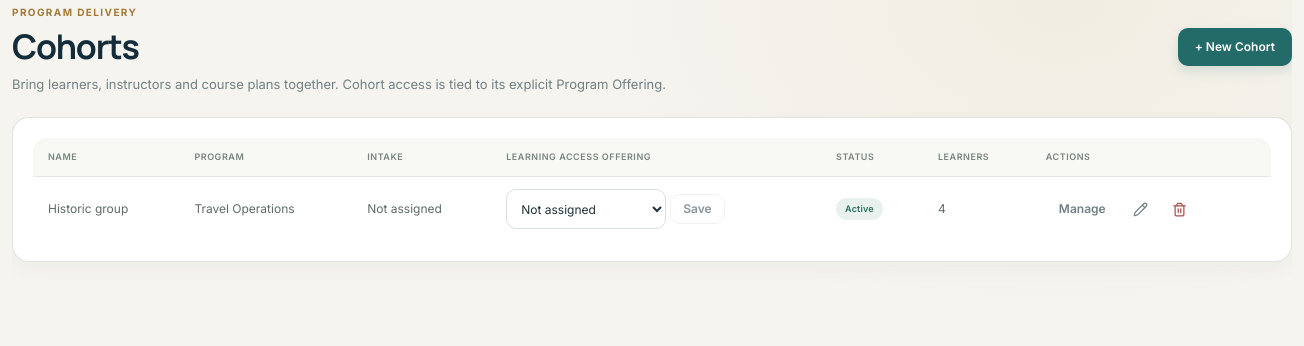
it: CohortsPage offering scoping › lets an administrator explicitly associate an existing teaching group with an offering
The width and height of the screenshot is (1304, 346).
Select "GATE 01 WINTER 2027" in the dropdown named "Learning access offering for Historic group": {"x": 586, "y": 209} [506,189,666,229]
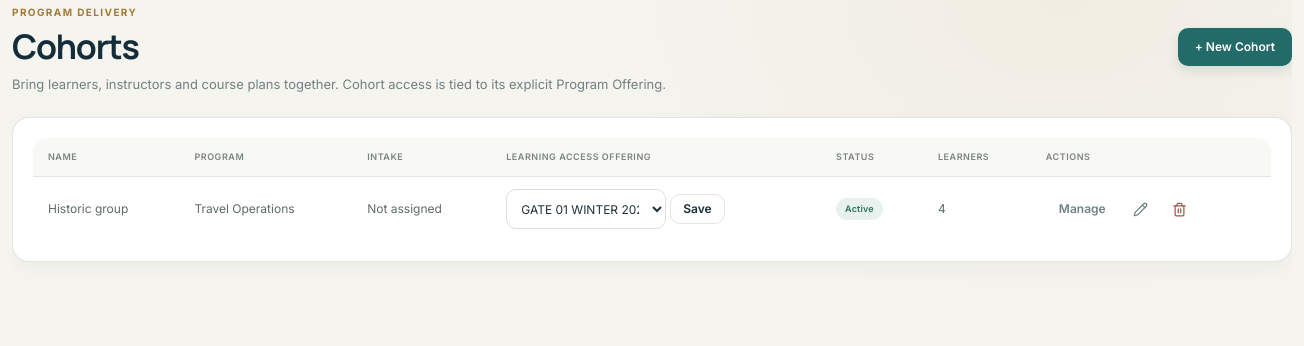
Click the button "Save": {"x": 697, "y": 209} [670,194,725,224]
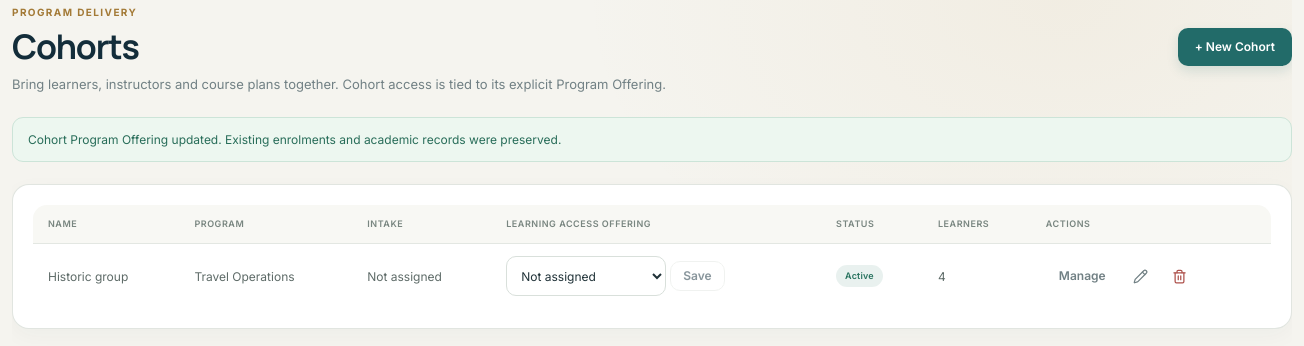
Check: the text "Existing enrolments and academic records were preserved" is shown, box [28,132,561,147]
